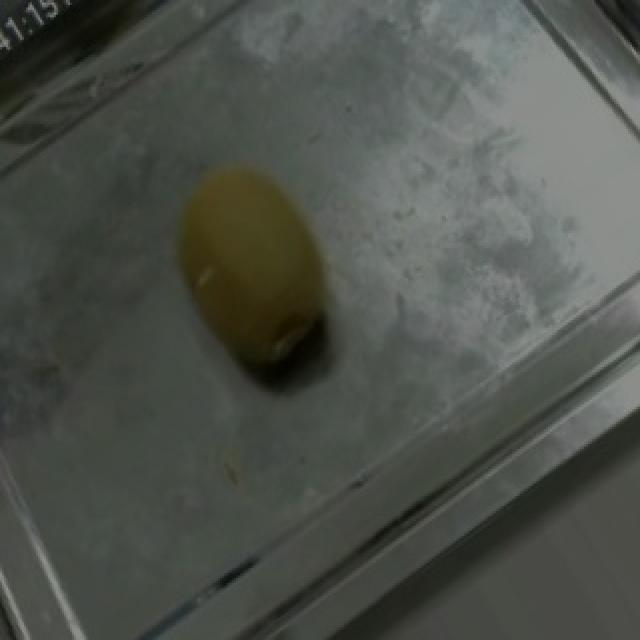Fruit: (130, 122, 372, 414)
